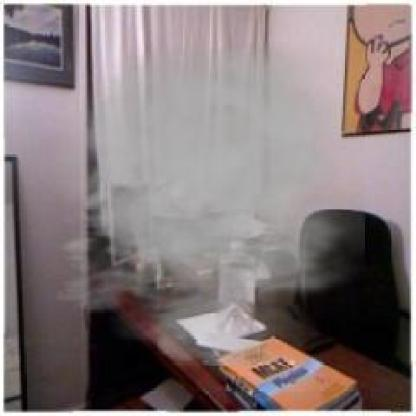Smoke: (23, 27, 364, 366)
